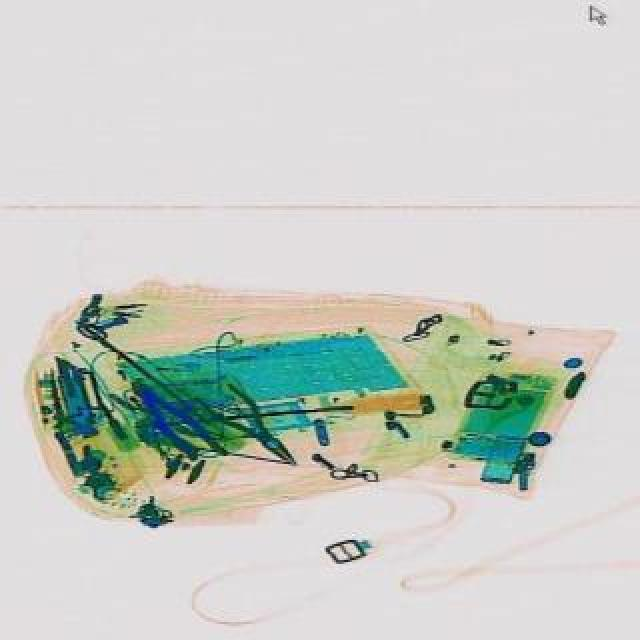wrench: (190, 370, 310, 478), (118, 370, 228, 474)
